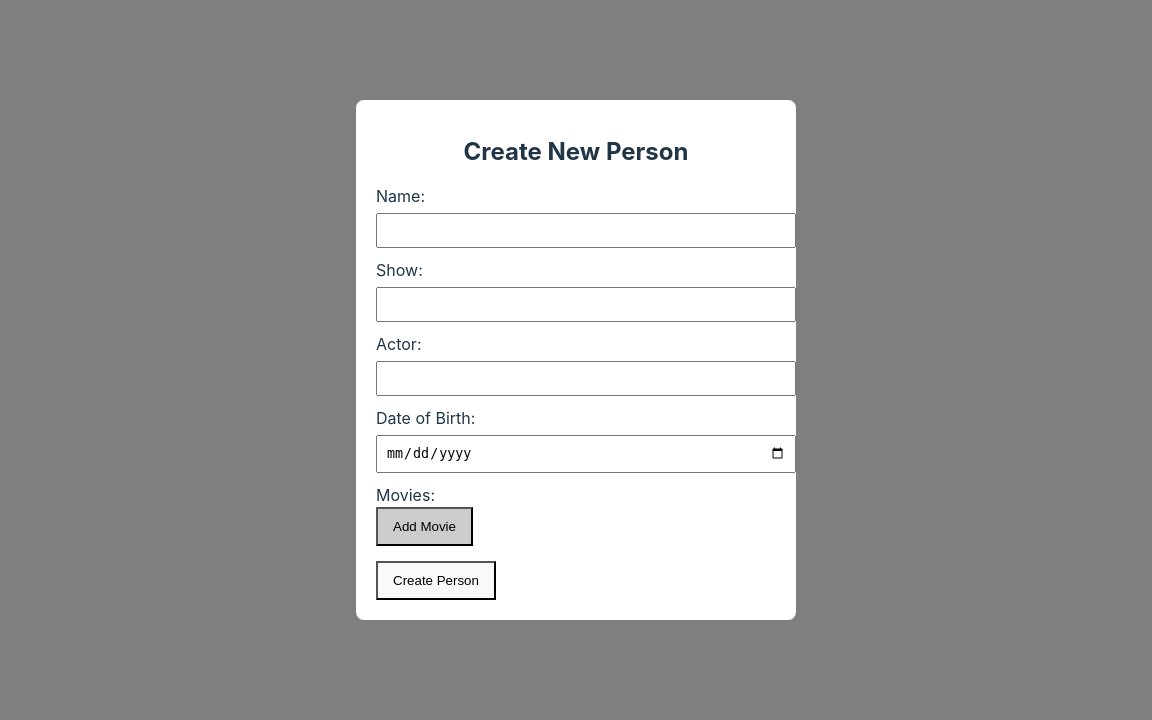
Test: CreatePerson Component › prevents form submission when required fields are missing
The width and height of the screenshot is (1152, 720).
Expected: the heading "Create New Person" is shown, [464,137,688,166]
# Submit the empty form
Click the button "Create Person": (436,580) [376,561,496,600]
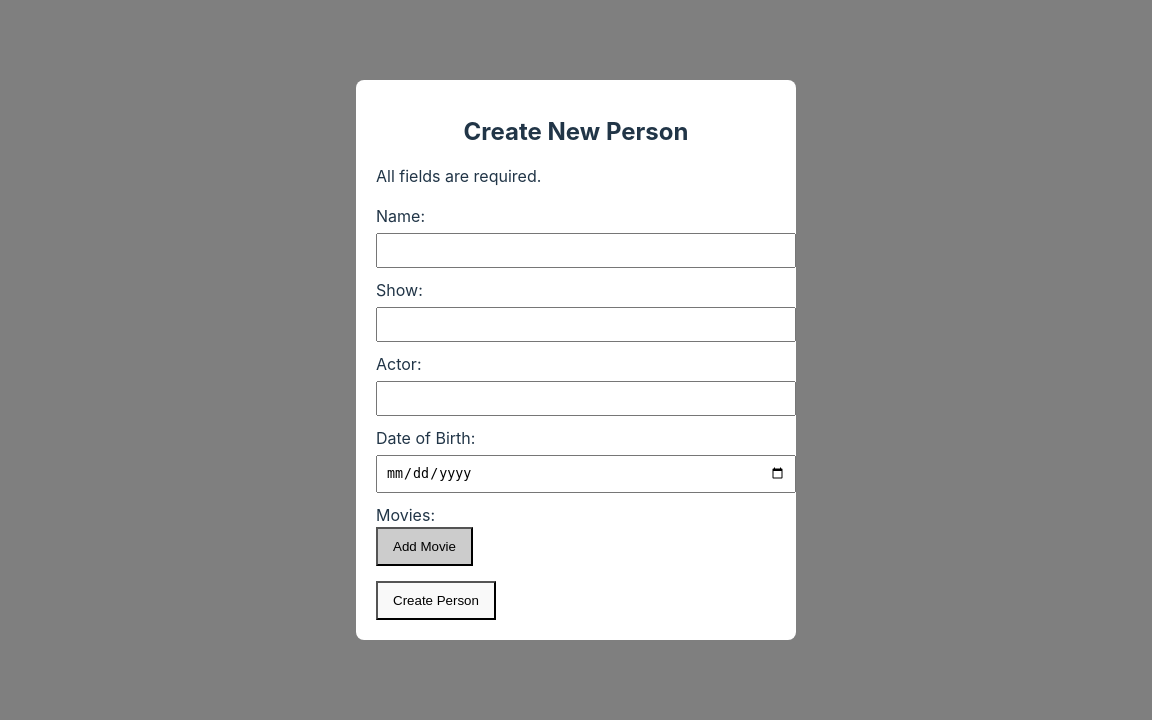
Result: the text "All fields are required." is shown at [376,166,541,186]
